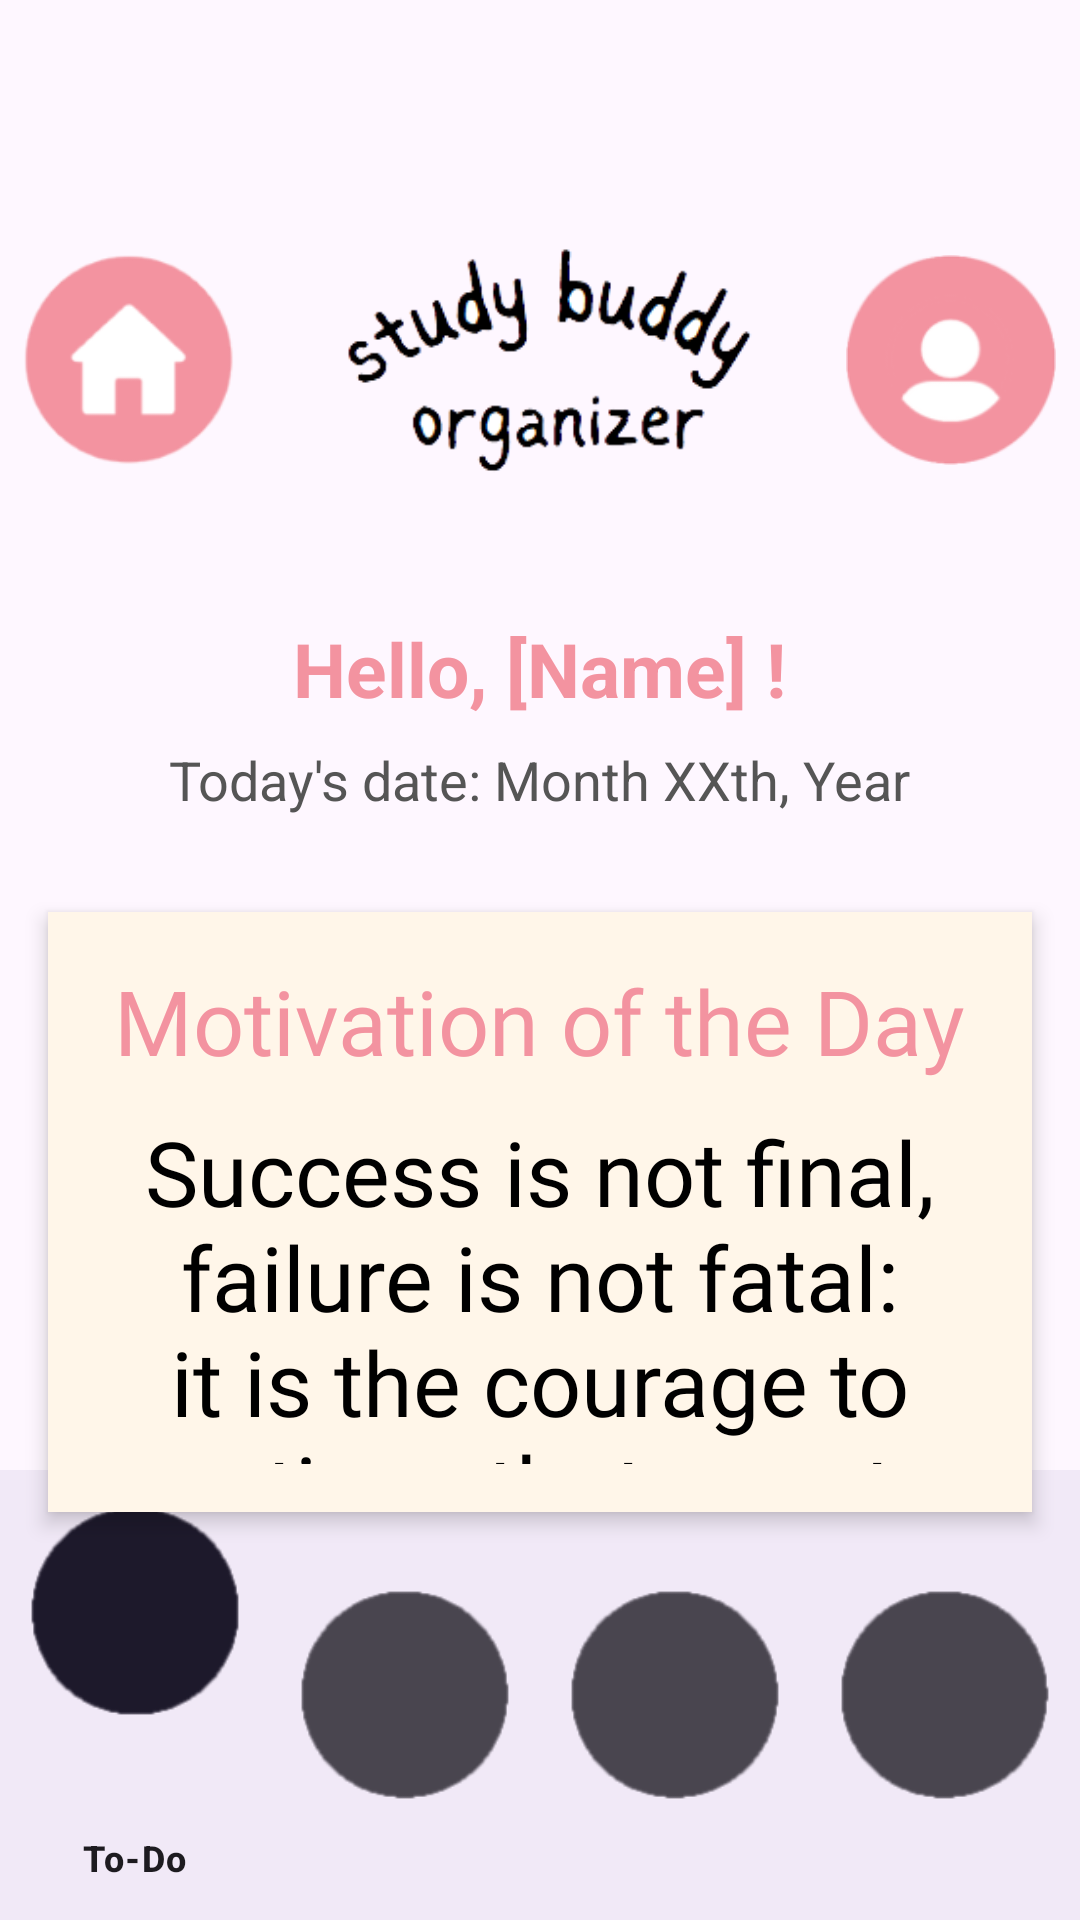

Where to tap for icons on this 1080*1920 app screen, as (x,y):
Profile: (951,360)
